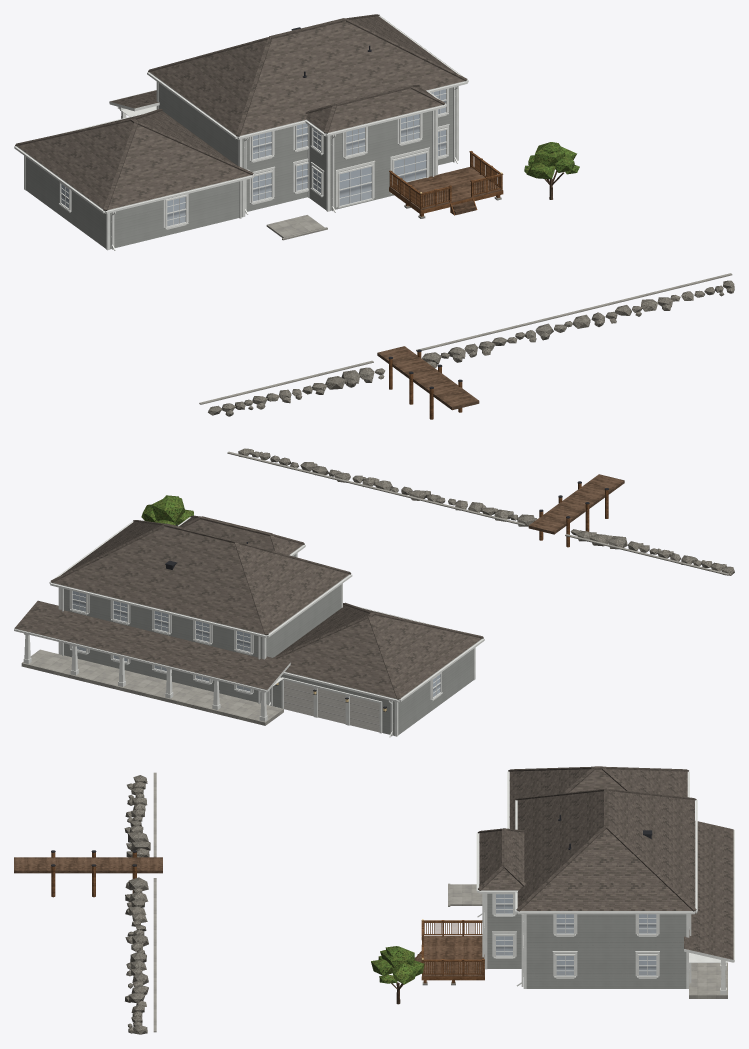
The model's file is lot-8201.fbx.
The picture shows the model from 3 angles, top to bottom: view 1: azimuth 30°, elevation 25°; view 2: azimuth 150°, elevation 25°; view 3: azimuth 270°, elevation 25°; orthographic projection. The views are drawn at different scales.
Visible parts, largest first — view 1: lot-8201_LOD0; view 2: lot-8201_LOD0; view 3: lot-8201_LOD0.
Part boxes in pixels (x1,y1,x2,y2): lot-8201_LOD0: (14,14,734,419); lot-8201_LOD0: (14,448,734,737); lot-8201_LOD0: (14,766,734,1034).
Size of what is drawn, in the model's own units: 39 by 10.53 by 45.95.
2 materials, 2 textured.
